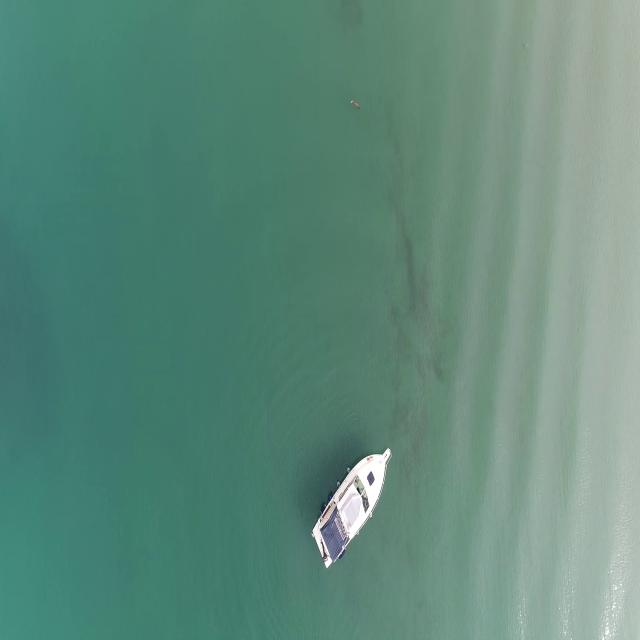boat: (313, 443, 392, 575)
wood: (350, 98, 362, 111)
